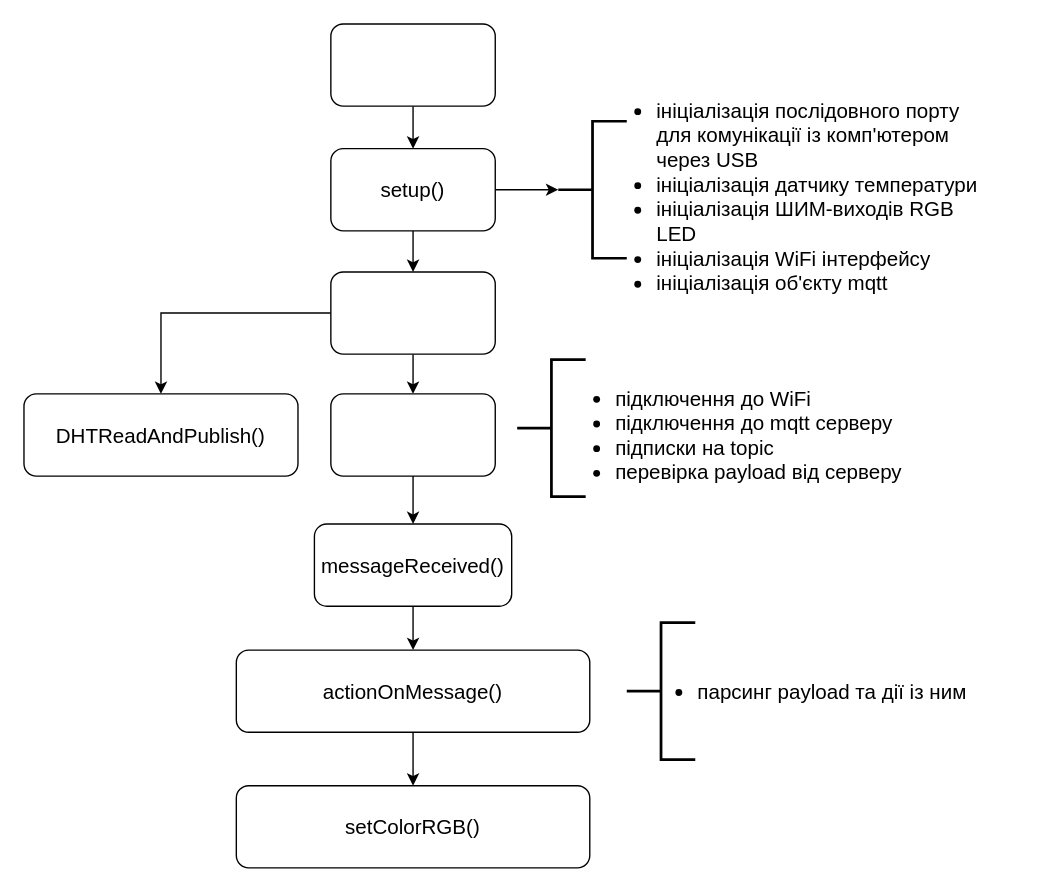
Some shapes in this 1048 by 892 pixel diagram are drawn without their labels. The box of each missing label's shape, as (x1, y1, x2, y2) in pixels:
connect(): (329, 393, 495, 476)
loop(): (329, 271, 495, 354)
Початок: (329, 23, 495, 106)
